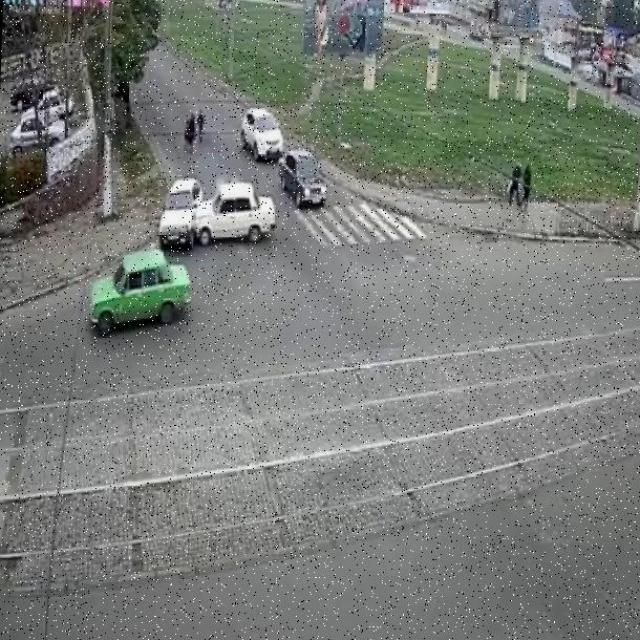accident: (158, 175, 278, 253)
